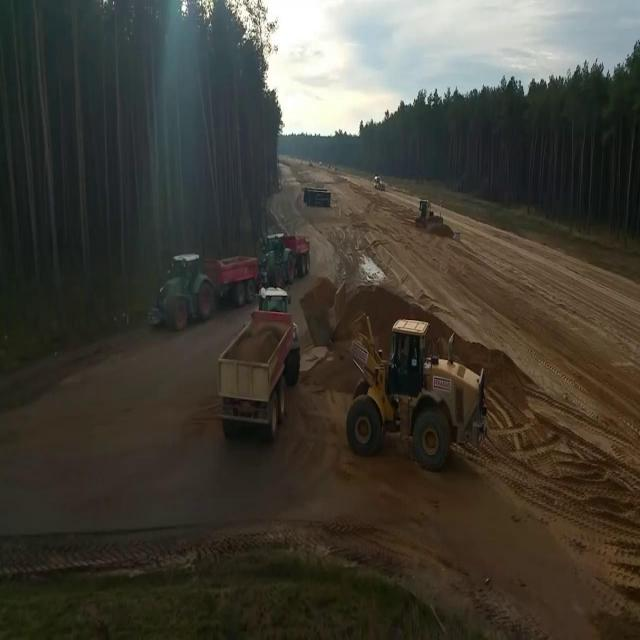Dump Truck: (218, 286, 302, 446), (146, 249, 258, 333), (260, 231, 312, 287)
Loader: (297, 273, 488, 473)
